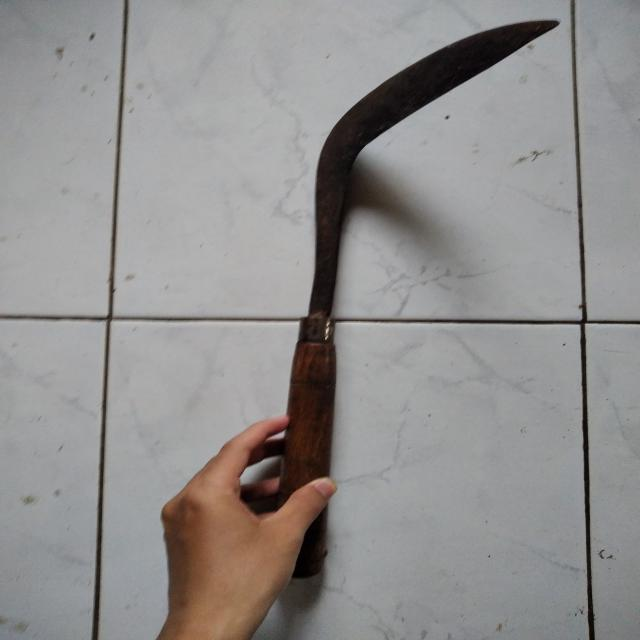Celurit: (276, 20, 567, 578)
